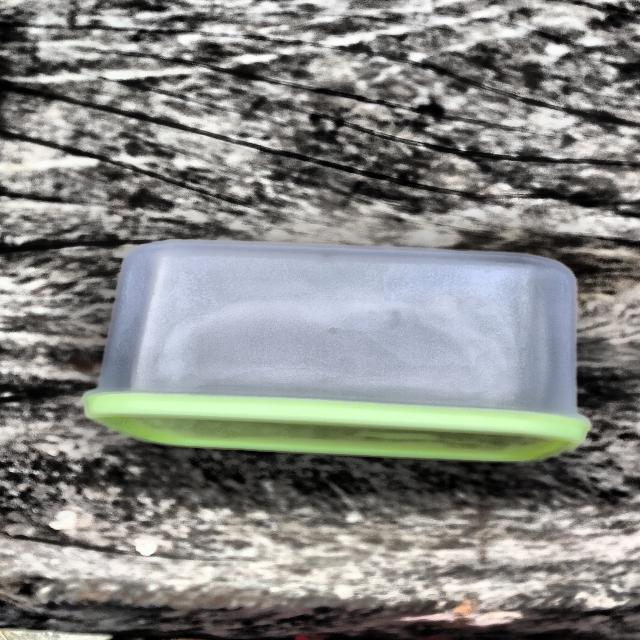plastic container: (70, 218, 612, 506)
